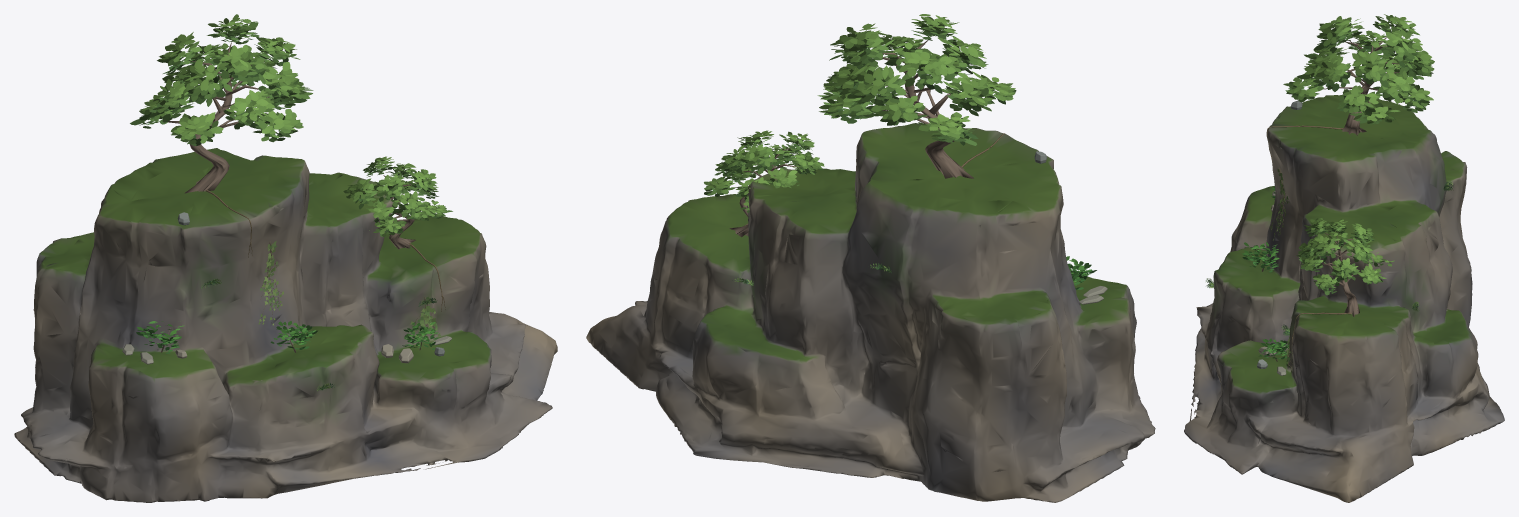
File: ban-thach.glb
3 renders of one model, left to right at view 1: azimuth 30°, elevation 25°; view 2: azimuth 150°, elevation 25°; view 3: azimuth 270°, elevation 25°, orthographic. The views are drawn at different scales.
Parts seen in each view (by area): view 1: Vân Sơn · continuous eroded crag, weeping 00 leaves, weeping 01 leaves, weeping 00 trunk, Ivy leaves, shrub 03 leaves, shrub 02 leaves; view 2: Vân Sơn · continuous eroded crag, weeping 00 leaves, weeping 01 leaves, weeping 00 trunk; view 3: Vân Sơn · continuous eroded crag, weeping 00 leaves, weeping 01 leaves, weeping 00 trunk, shrub 03 leaves, weeping 01 trunk, Ivy leaves, shrub 04 leaves.
Part boxes in pixels (bbox=[...]): Vân Sơn · continuous eroded crag: bbox=[14, 148, 557, 502]; weeping 00 leaves: bbox=[130, 14, 313, 145]; weeping 01 leaves: bbox=[343, 156, 452, 236]; weeping 00 trunk: bbox=[167, 42, 269, 193]; Ivy leaves: bbox=[258, 241, 440, 340]; shrub 03 leaves: bbox=[270, 321, 317, 349]; shrub 02 leaves: bbox=[136, 321, 184, 353]; Vân Sơn · continuous eroded crag: bbox=[586, 123, 1155, 502]; weeping 00 leaves: bbox=[817, 14, 1016, 145]; weeping 01 leaves: bbox=[704, 130, 824, 212]; weeping 00 trunk: bbox=[882, 40, 973, 178]; Vân Sơn · continuous eroded crag: bbox=[1184, 94, 1504, 502]; weeping 00 leaves: bbox=[1283, 14, 1434, 124]; weeping 01 leaves: bbox=[1296, 218, 1394, 295]; weeping 00 trunk: bbox=[1323, 37, 1399, 135]; shrub 03 leaves: bbox=[1242, 242, 1279, 272]; weeping 01 trunk: bbox=[1321, 233, 1359, 316]; Ivy leaves: bbox=[1269, 169, 1291, 372]; shrub 04 leaves: bbox=[1259, 338, 1289, 359].
Bounding box in the file's own units: 36.03 × 25.16 × 21.15.
